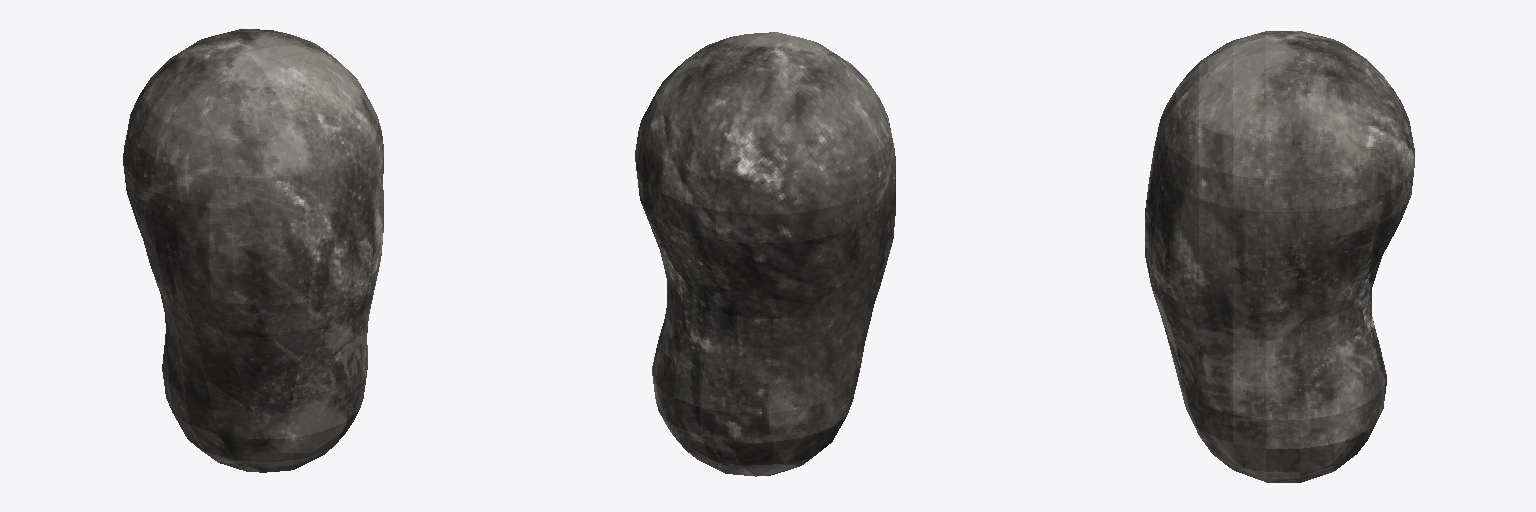
3 views of the same model, side by side, from view 1: azimuth 30°, elevation 25°; view 2: azimuth 150°, elevation 25°; view 3: azimuth 270°, elevation 25° (orthographic).
Visible parts, largest first — view 1: Mball.000_Mesh.002_meshId0_name.001; view 2: Mball.000_Mesh.002_meshId0_name.001; view 3: Mball.000_Mesh.002_meshId0_name.001.
Part boxes in pixels (bbox=[...]): Mball.000_Mesh.002_meshId0_name.001: bbox=[123, 29, 383, 472]; Mball.000_Mesh.002_meshId0_name.001: bbox=[635, 32, 895, 476]; Mball.000_Mesh.002_meshId0_name.001: bbox=[1145, 31, 1414, 482].
Size of the model in its own units: 0.3474 by 0.6237 by 0.3595.
Materials: 1 (1 with a texture image).